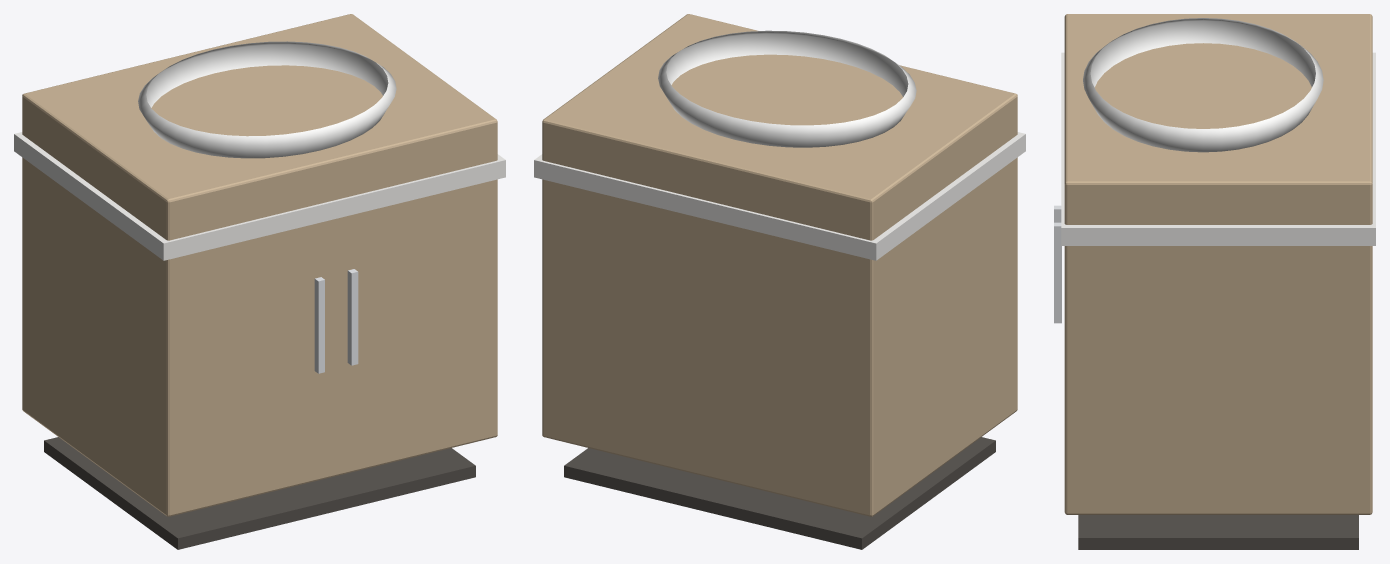
Rendered from vanity-floating-cupboard.glb.
3 renders of one model, left to right at view 1: azimuth 30°, elevation 25°; view 2: azimuth 150°, elevation 25°; view 3: azimuth 270°, elevation 25°, orthographic. The views are drawn at different scales.
Visible parts, largest first — view 1: body; view 2: body; view 3: body.
Part boxes in pixels (bbox=[...]): body: bbox=[14, 14, 505, 549]; body: bbox=[534, 14, 1025, 549]; body: bbox=[1054, 14, 1375, 549].
Bounding box in the file's own units: 0.62 × 0.66 × 0.481.
